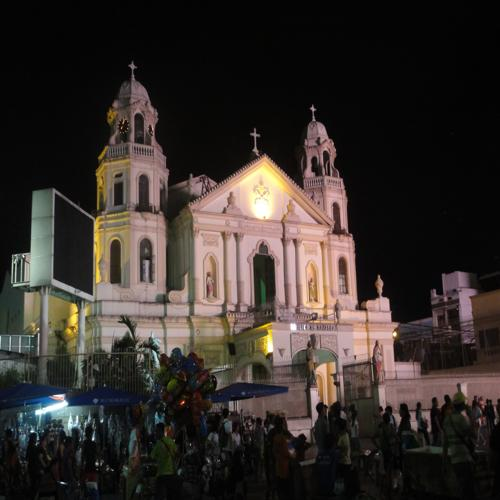Quiapo Church: (85, 52, 399, 389)
